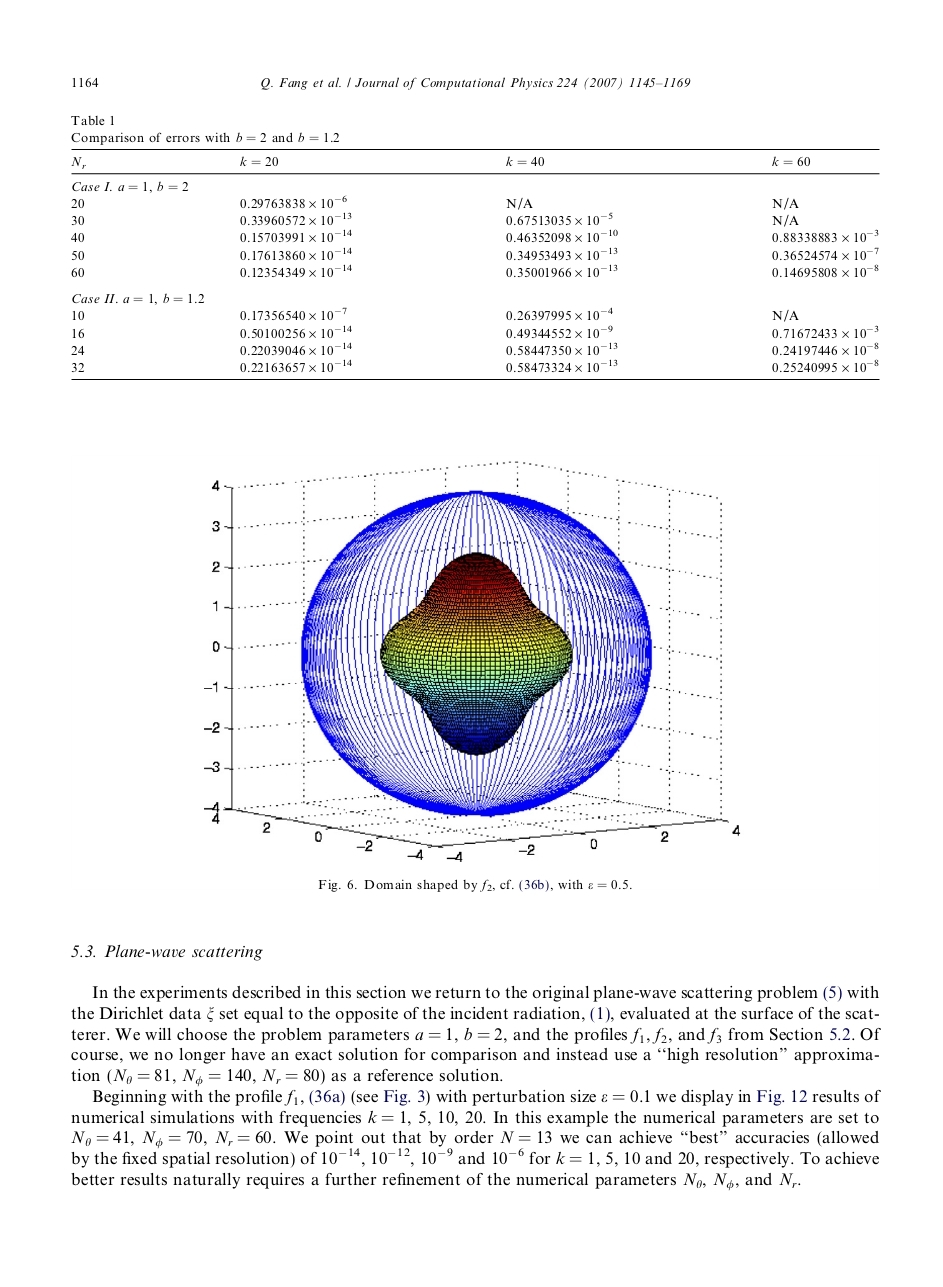Table: (71, 149, 879, 379)
figure: (204, 460, 740, 862)
